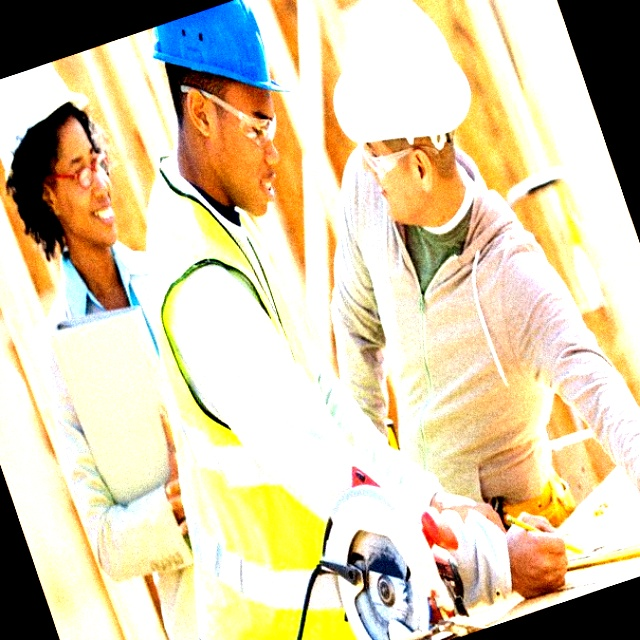Hardhat: (328, 0, 492, 142), (148, 3, 293, 88), (0, 62, 95, 183)
Person: (307, 13, 629, 612), (127, 0, 423, 633), (308, 3, 637, 530), (132, 5, 363, 626), (0, 59, 240, 600), (4, 52, 233, 595)
Vest: (136, 167, 368, 635)
